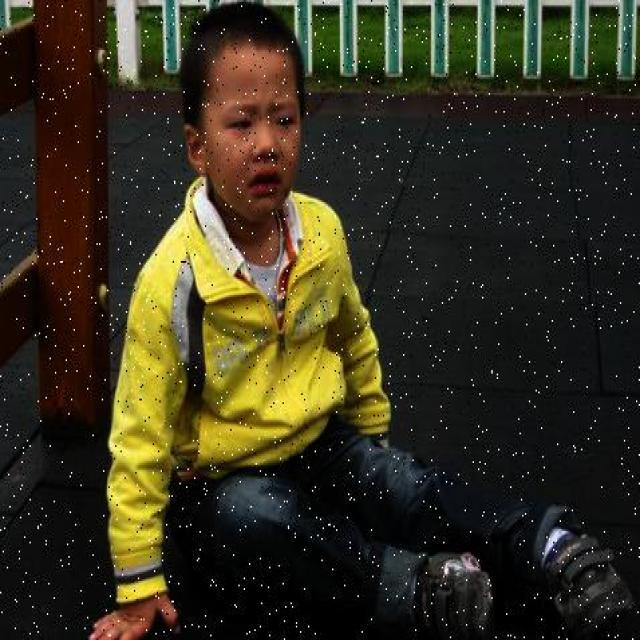fall: (132, 70, 618, 638)
